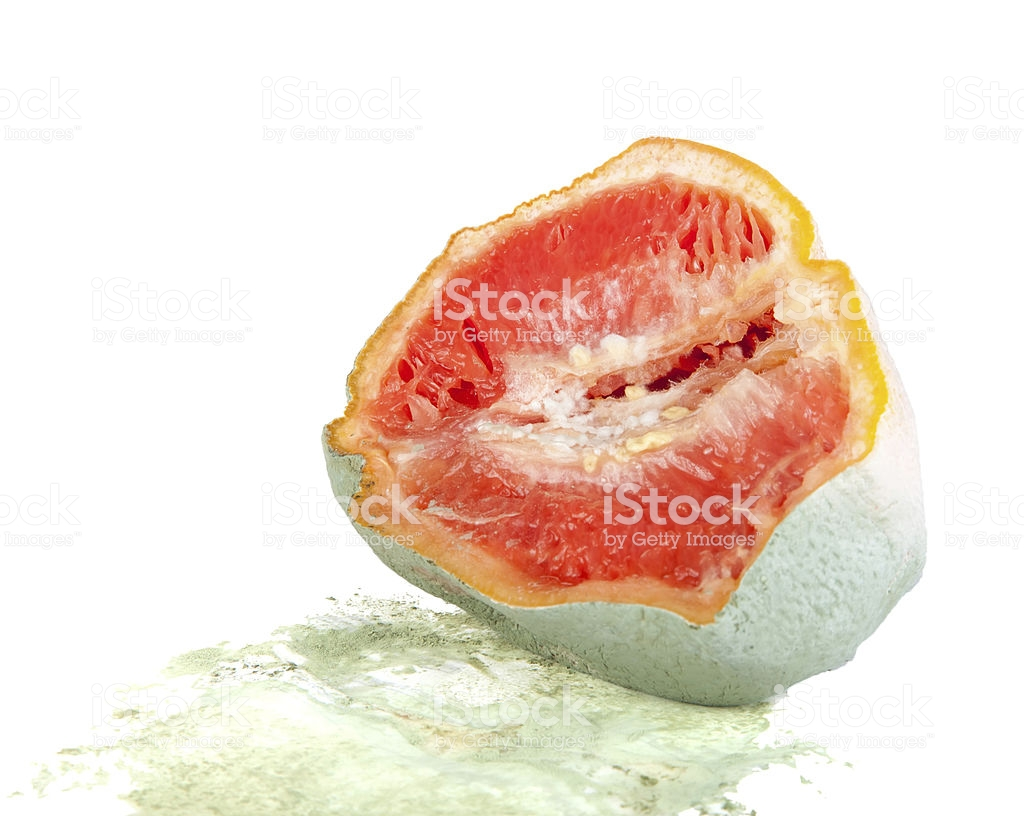damaged_grapefruit: (322, 137, 932, 696)
